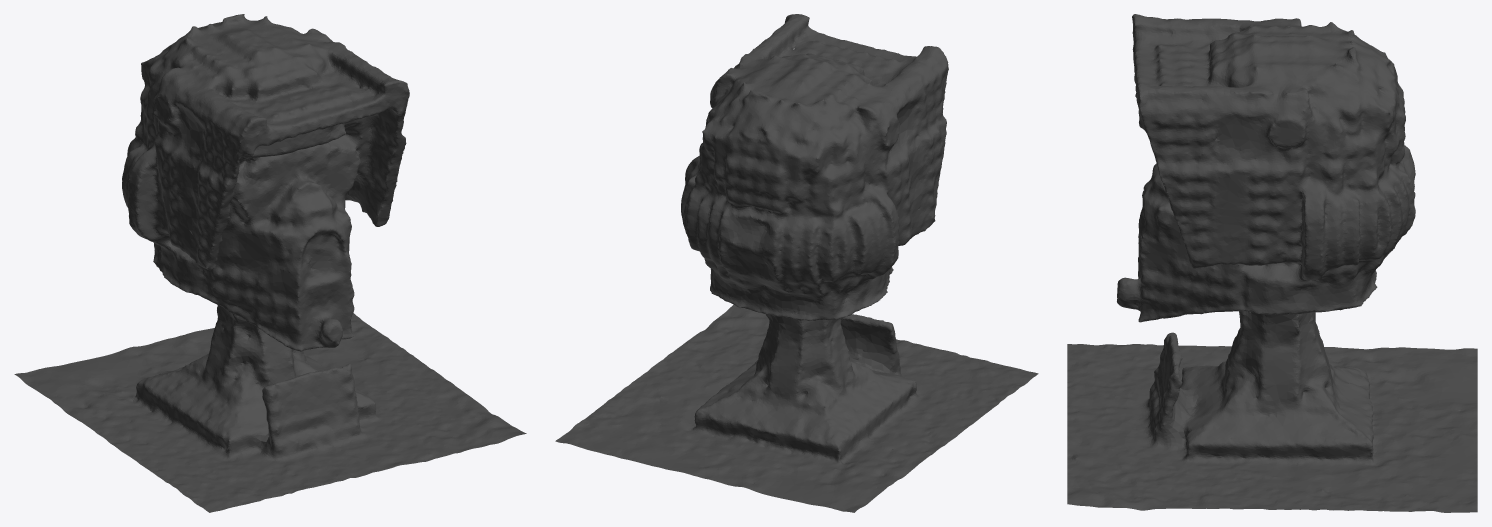
Rendered from trooper.glb.
3 views of the same model, side by side, from view 1: azimuth 30°, elevation 25°; view 2: azimuth 150°, elevation 25°; view 3: azimuth 270°, elevation 25° (orthographic). The views are drawn at different scales.
Visible parts, largest first — view 1: mesh; view 2: mesh; view 3: mesh.
Part boxes in pixels (<box>): mesh: <box>14,14,526,512</box>; mesh: <box>555,14,1038,512</box>; mesh: <box>1067,14,1477,512</box>.
Size of the model in its own units: 0.1604 by 0.1792 by 0.1714.
1 material, 1 textured.
